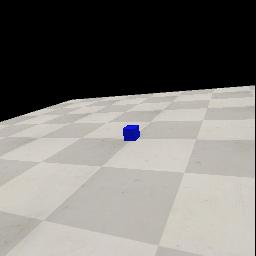box: (123, 125, 140, 141)
